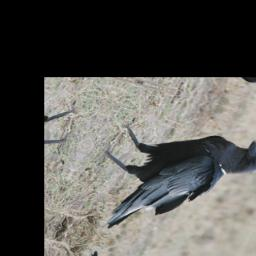Crow: (69, 102, 256, 256)
